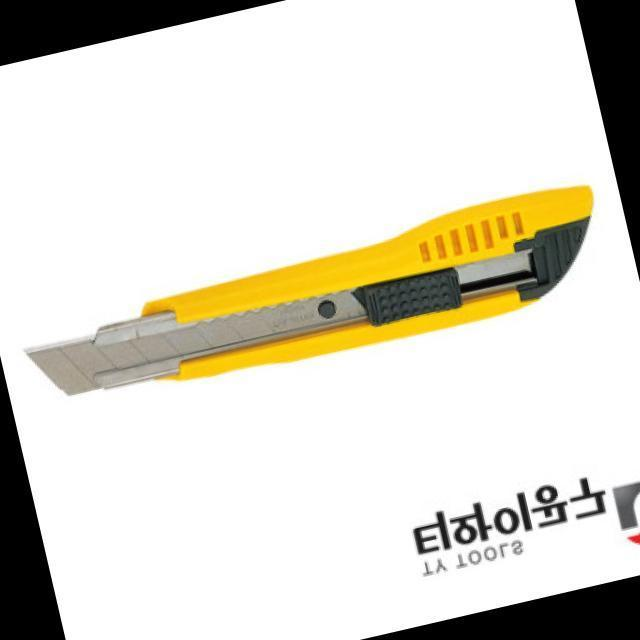cutter: (0, 165, 626, 445)
